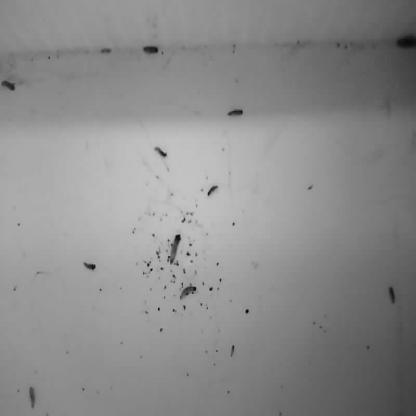PtecticusTenebrifer: (169, 235, 181, 264), (179, 284, 198, 300), (28, 386, 36, 409), (143, 44, 159, 54), (154, 146, 167, 158), (2, 81, 16, 92), (388, 285, 396, 304), (228, 108, 243, 118), (206, 184, 218, 196), (84, 262, 96, 272)
